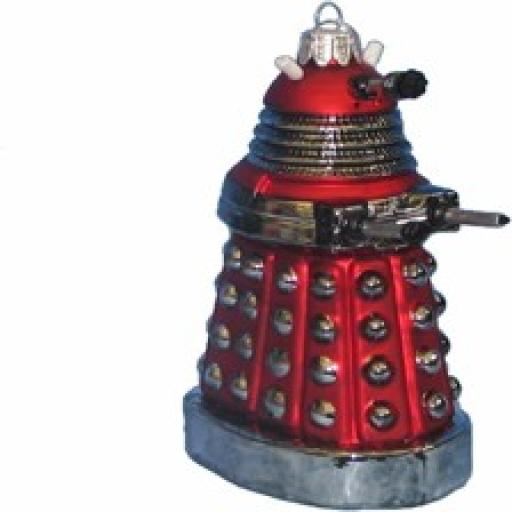dalek: (185, 42, 512, 512)
